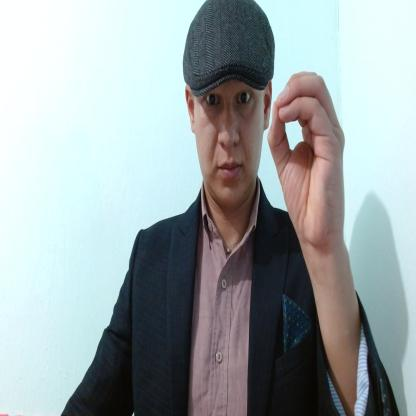O: (267, 69, 346, 246)
